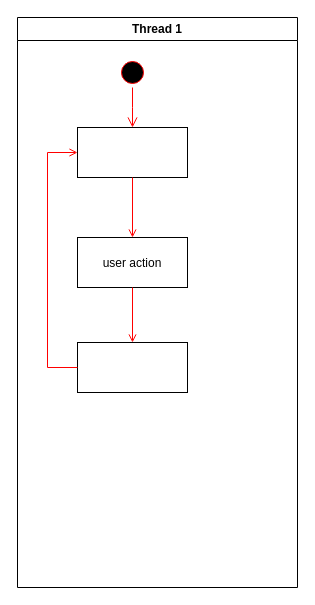
The diagram is 315 pixels wide and 605 high, and some of its shapes have lost their labels. Each missing label, with the box of its shape:
idle: (76, 126, 188, 178)
post command: (76, 342, 188, 392)
